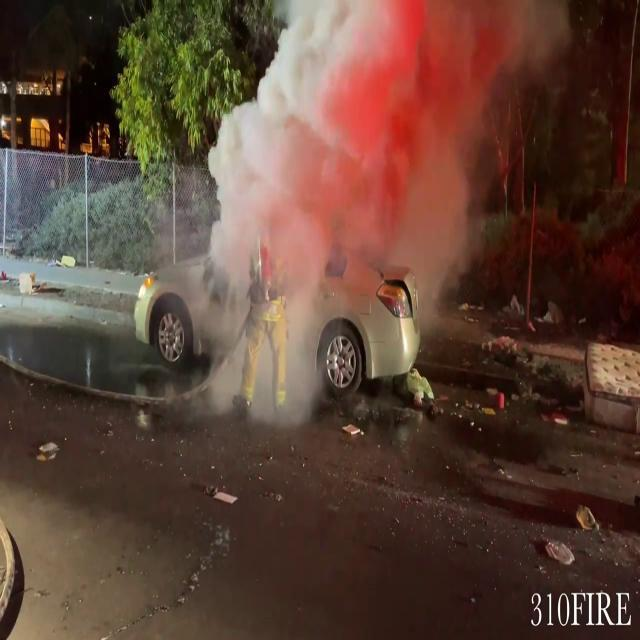Smoke: (194, 1, 496, 403)
